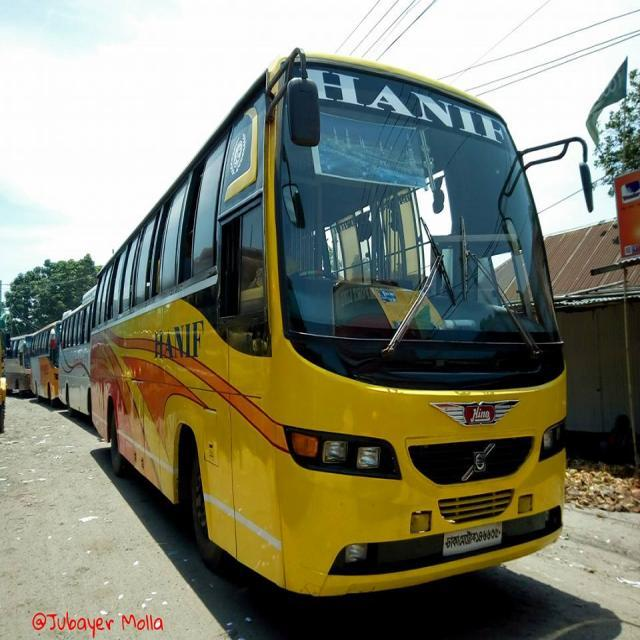bus: (88, 41, 595, 601)
